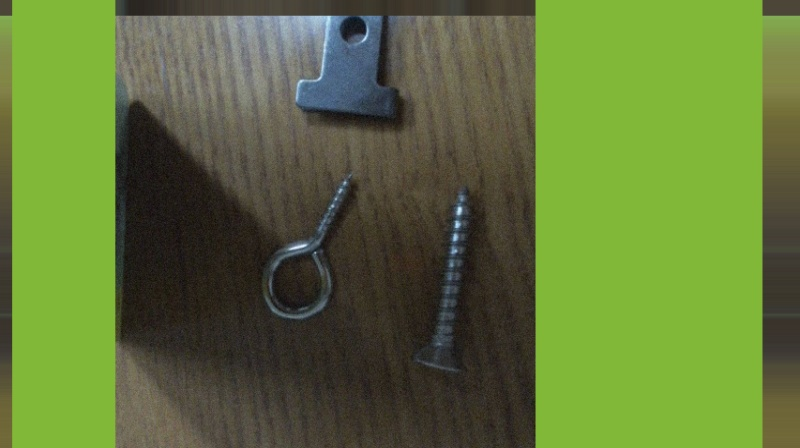O001: (259, 171, 357, 324)
O002: (291, 0, 414, 122)
S001: (408, 181, 475, 378)
